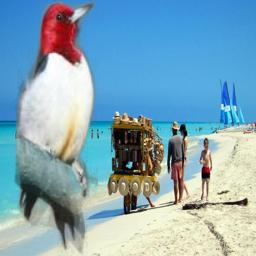Woodpecker: (14, 1, 98, 256)
